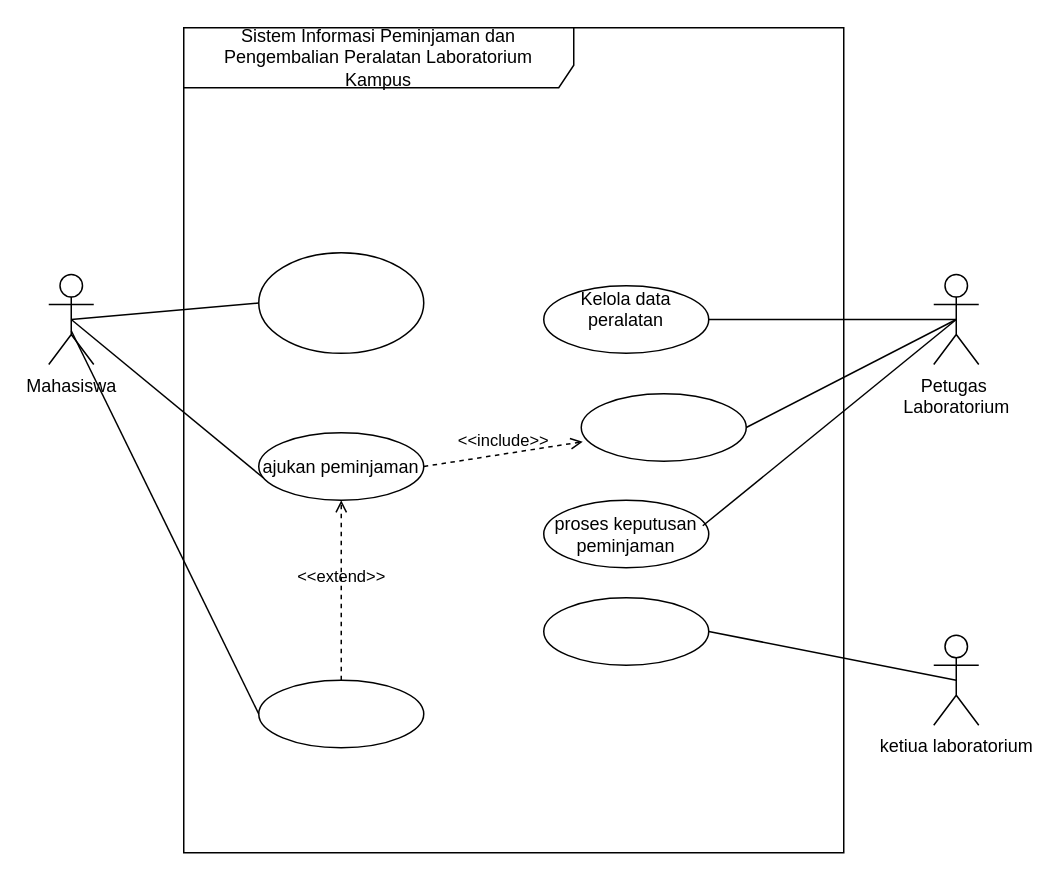
This 1058x879 diagram has some shape labels left out. Here are the shapes that lost their labels. From the top down, the centre of each, then its label:
At [340,302]: "Lihat ketersdediaan peralatan".
At [663,426]: "periksa ketersediaan".
At [625,630]: "lihat laporan peminjaman".
At [340,713]: "cetak bukti pengajuan".
